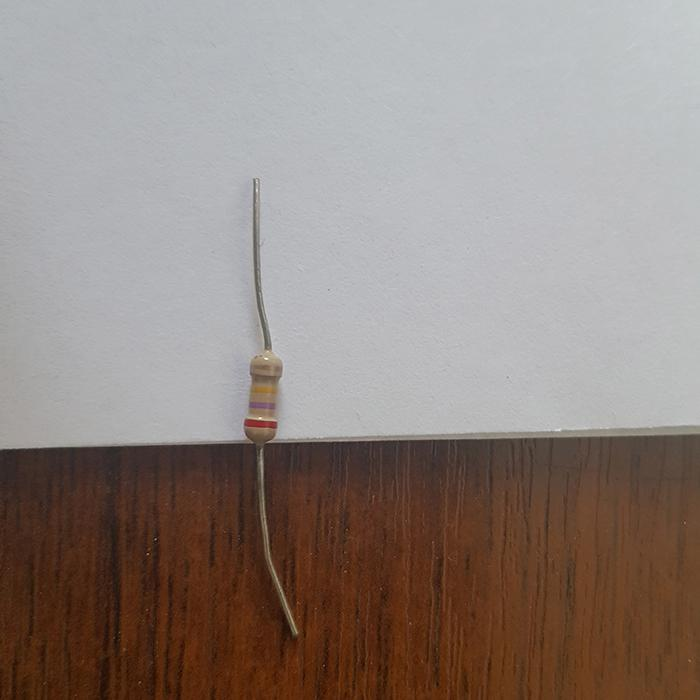resistor: (243, 350, 283, 442)
